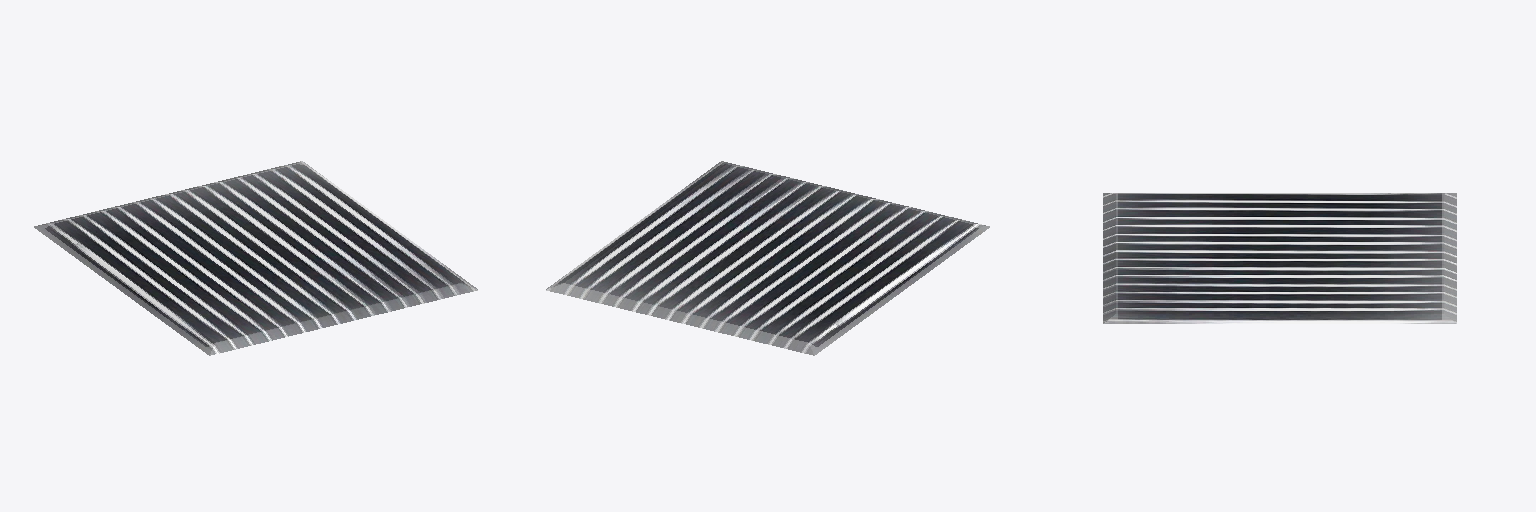
The picture shows the model from 3 angles: view 1: azimuth 30°, elevation 25°; view 2: azimuth 150°, elevation 25°; view 3: azimuth 270°, elevation 25°; orthographic projection.
Parts seen in each view (by area): view 1: vent_4; view 2: vent_4; view 3: vent_4.
Boxes of the visible parts, <box> form: vent_4: <box>34,161,477,355</box>; vent_4: <box>546,161,989,355</box>; vent_4: <box>1103,193,1456,323</box>.
Size of the model in its own units: 0.177 by 0.003 by 0.2008.
Materials: 1 (1 with a texture image).